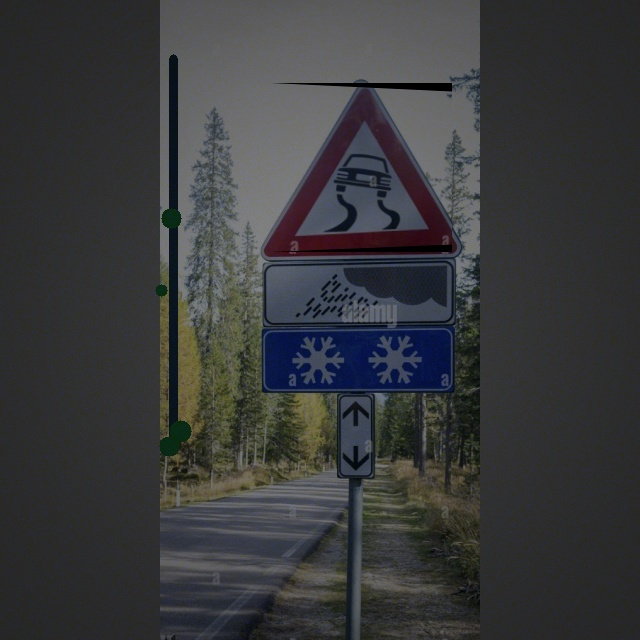Slippery_Road: (270, 83, 452, 252)
